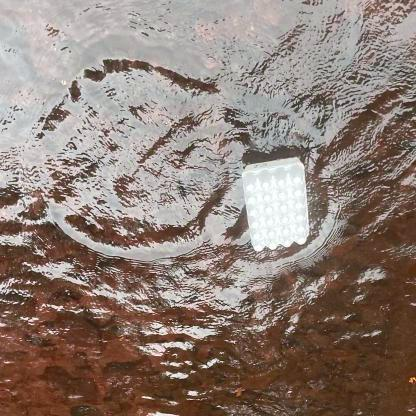Plastic: (238, 152, 311, 254)
